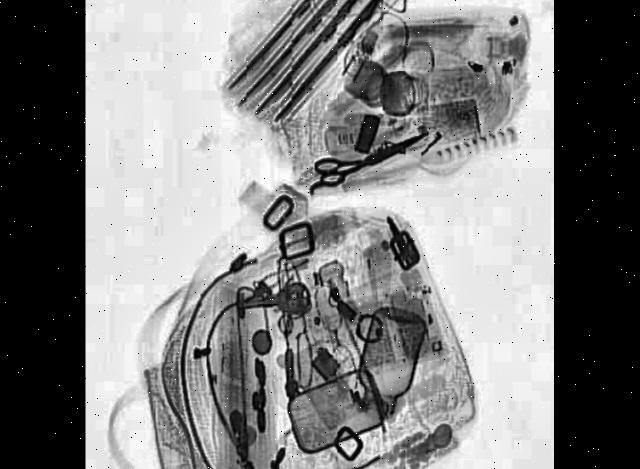Scissors: (313, 115, 430, 190)
